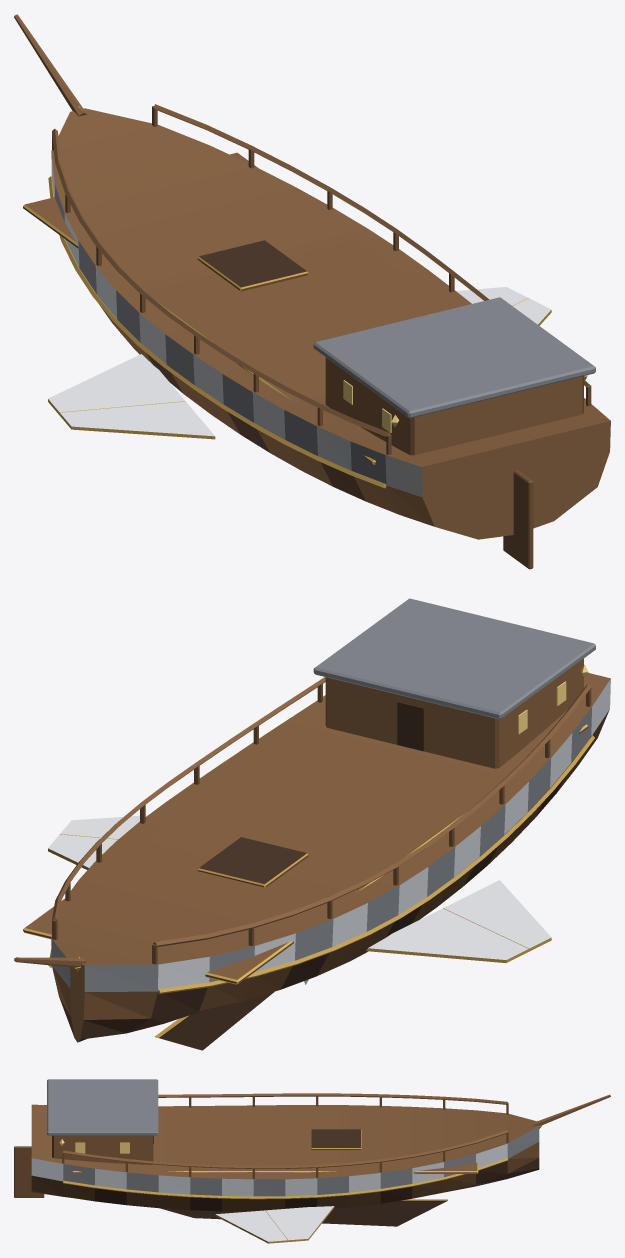
The model's file is SloopHull.obj.
The picture shows the model from 3 angles, top to bottom: view 1: azimuth 30°, elevation 25°; view 2: azimuth 150°, elevation 25°; view 3: azimuth 270°, elevation 25°; orthographic projection. The views are drawn at different scales.
Bounding box in the file's own units: 16.42 × 7.83 × 30.57.
